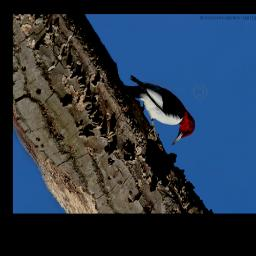Woodpecker: (114, 70, 204, 150)
